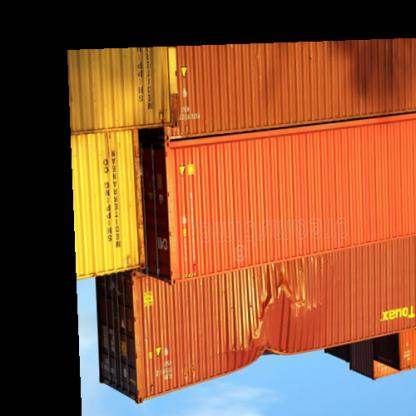Damage: (242, 276, 310, 358)
